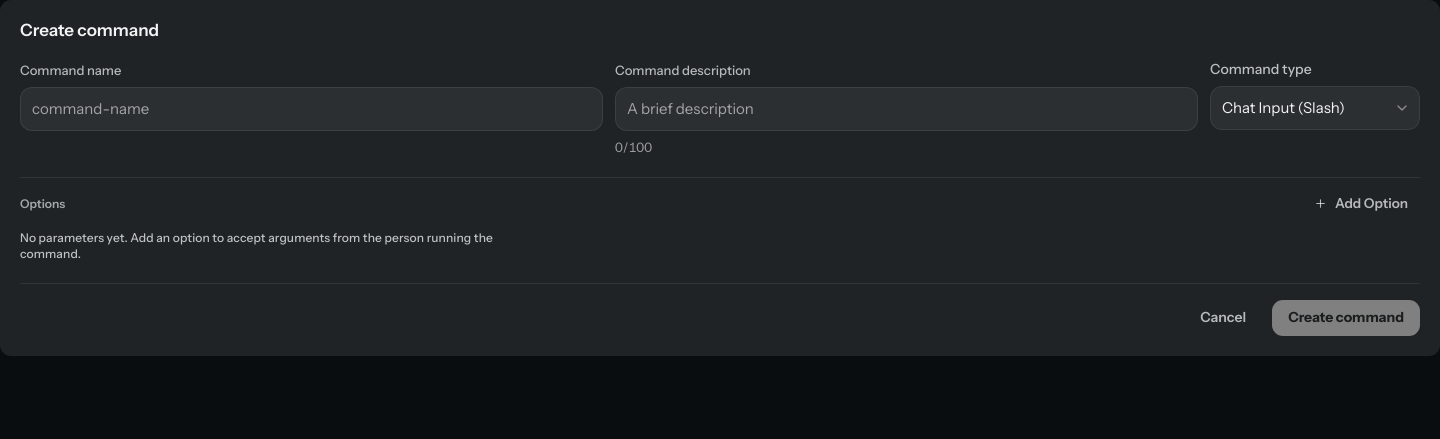
Test: CommandBuilder › shows concrete API details when command creation fails
Type "deploy" into the field labelled "Command name". click: (312, 109)
box: [32, 97, 591, 120]
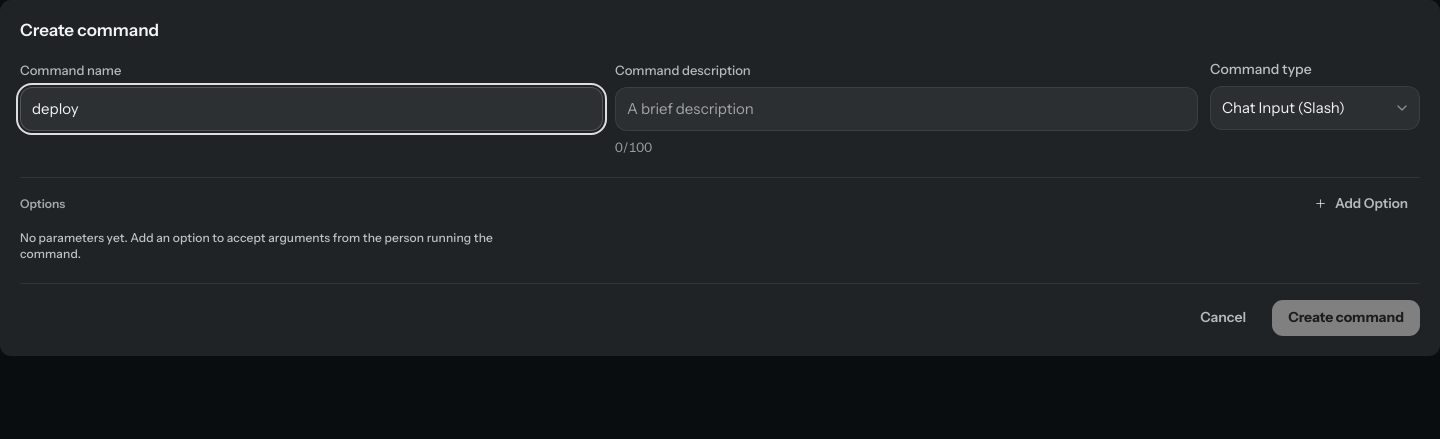
Type "Deploy the app" into the field labelled "Command description". click: (906, 109)
box: [627, 97, 1186, 120]
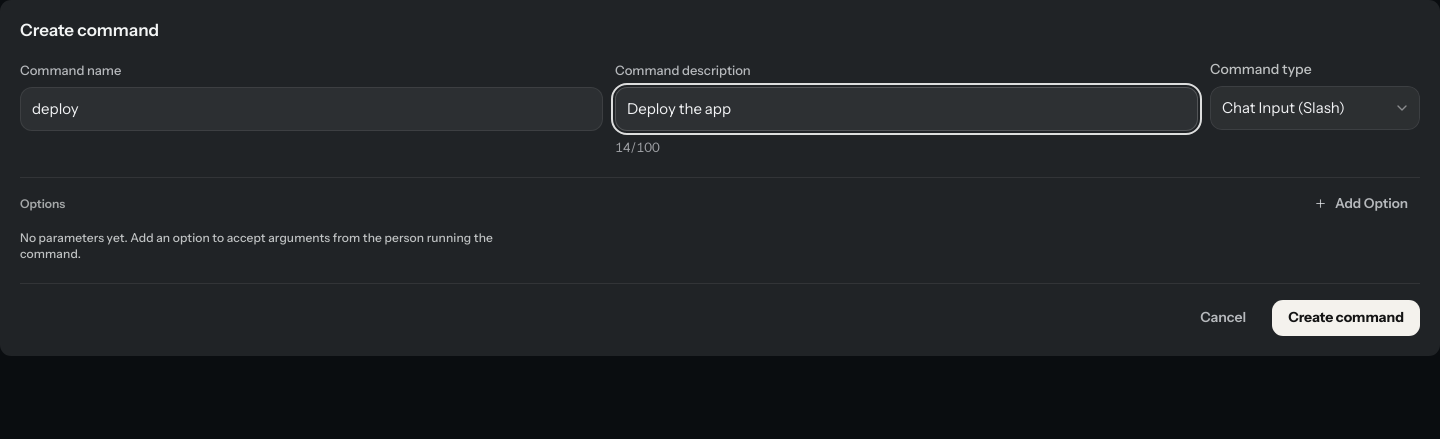
Click the button "Create command". click: (1346, 318)
box: [1272, 300, 1420, 336]
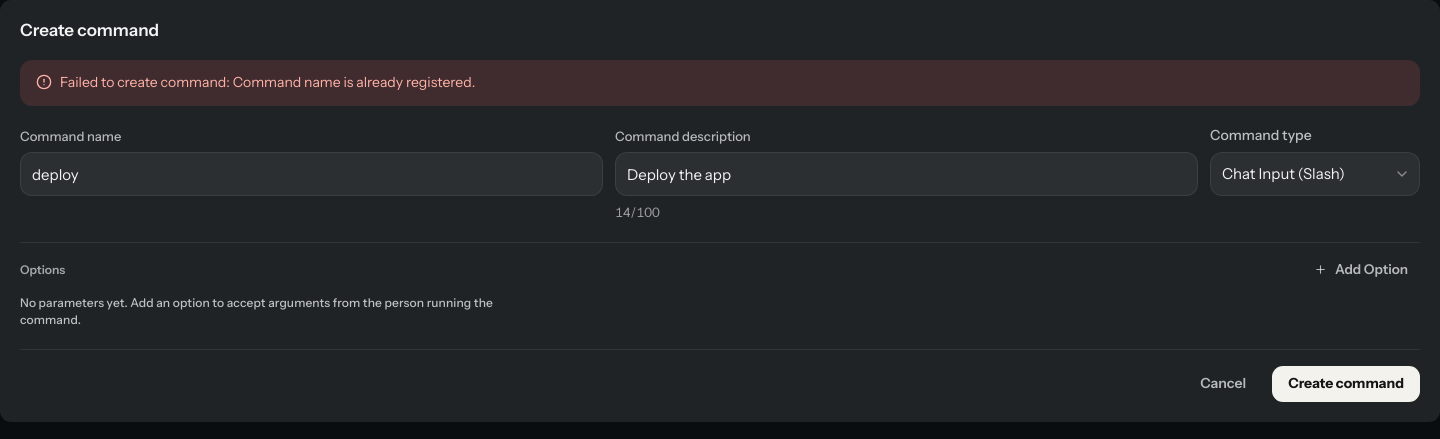
Check: the message reads "Failed to create command: Command name is already registered.", box [60, 73, 475, 91]
